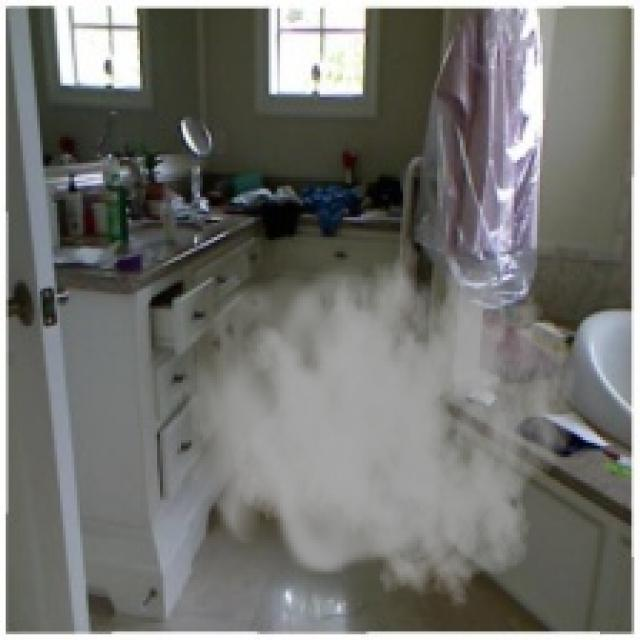smoke: (186, 217, 577, 609)
